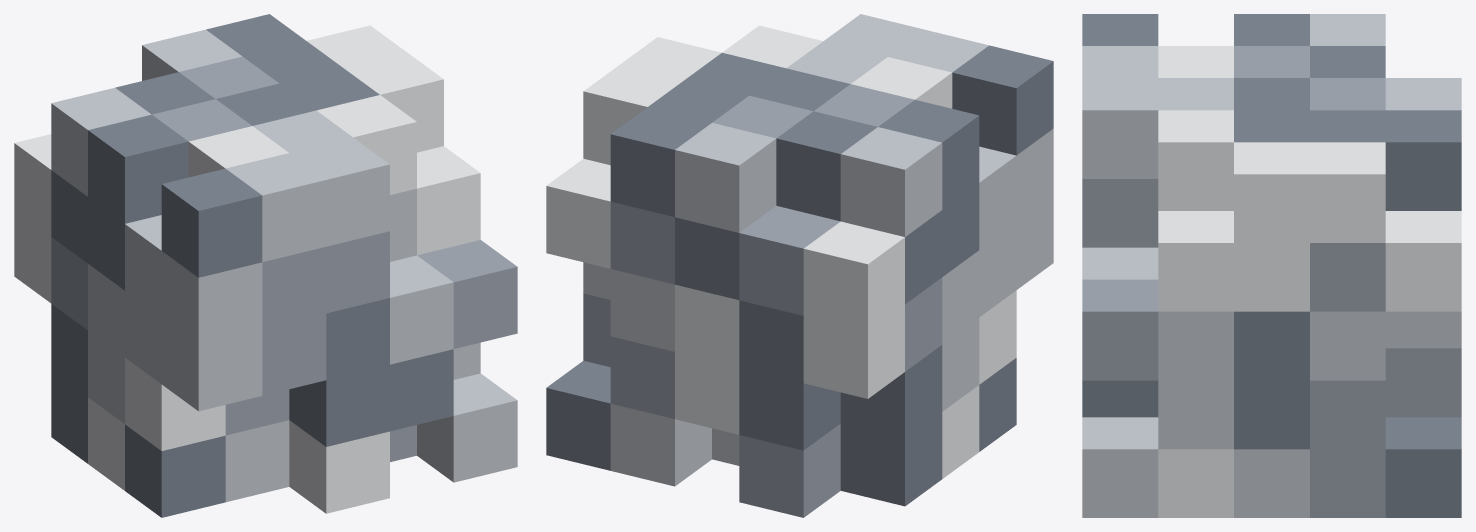
The model's file is crumbled-paper.obj.
3 renders of one model, left to right at view 1: azimuth 30°, elevation 25°; view 2: azimuth 150°, elevation 25°; view 3: azimuth 270°, elevation 25°, orthographic. The views are drawn at different scales.
Bounding box in the file's own units: 0.5 × 0.5 × 0.5.
1 material, 1 textured.
